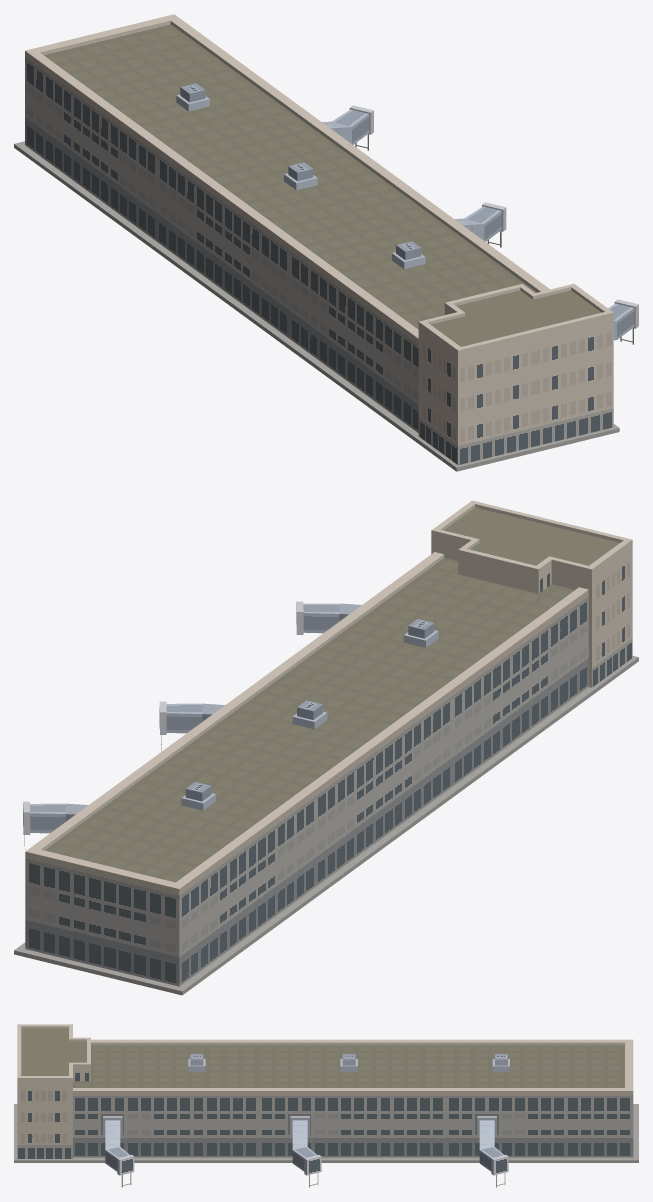
Rendered from 0191_Airport_Terminal.glb.
3 renders of one model, top to bottom at view 1: azimuth 30°, elevation 25°; view 2: azimuth 150°, elevation 25°; view 3: azimuth 270°, elevation 25°, orthographic. The views are drawn at different scales.
Visible parts, largest first — view 1: part_0; view 2: part_0; view 3: part_0.
Boxes of the visible parts, box(x1,y1,x2,y2) form: part_0: box(14, 14, 638, 471); part_0: box(14, 500, 638, 995); part_0: box(14, 1024, 638, 1187).
Size of the model in its own units: 48.2 by 21.25 by 144.
Materials: 1 (1 with a texture image).
